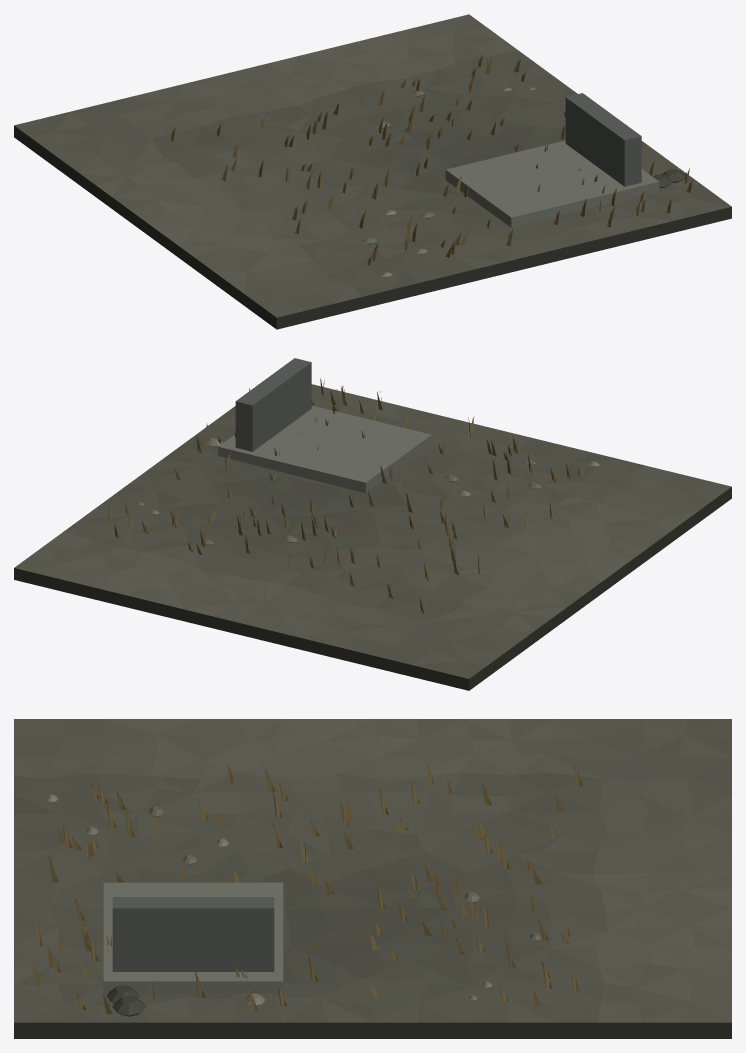
The model's file is CHUNK_ruined_monastery__fallen_guardian_seal__11.glb.
3 renders of one model, top to bottom at view 1: azimuth 30°, elevation 25°; view 2: azimuth 150°, elevation 25°; view 3: azimuth 270°, elevation 25°, orthographic. The views are drawn at different scales.
Parts seen in each view (by area): view 1: CHUNK_ruined_monastery__fallen_guardian_seal__11; view 2: CHUNK_ruined_monastery__fallen_guardian_seal__11; view 3: CHUNK_ruined_monastery__fallen_guardian_seal__11.
Boxes of the visible parts, bbox=[...] form: CHUNK_ruined_monastery__fallen_guardian_seal__11: bbox=[14, 14, 731, 329]; CHUNK_ruined_monastery__fallen_guardian_seal__11: bbox=[14, 358, 731, 690]; CHUNK_ruined_monastery__fallen_guardian_seal__11: bbox=[14, 719, 731, 1038].
Bounding box in the file's own units: 8 × 1.16 × 8.
